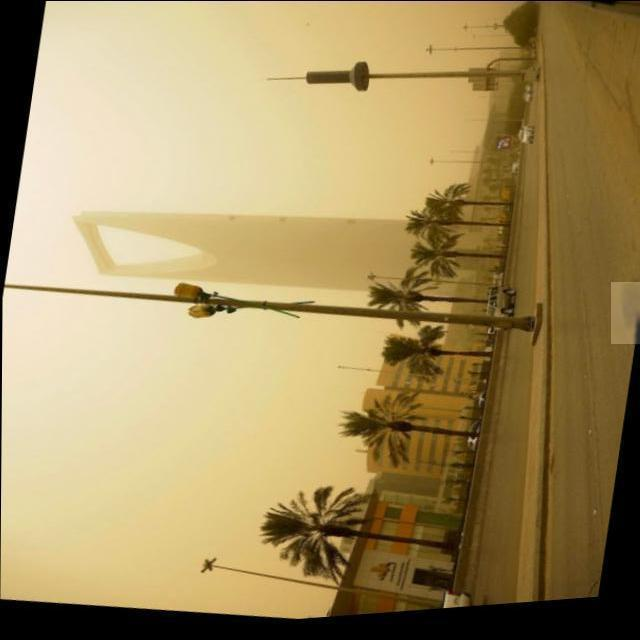Manhole: (611, 282, 640, 344)
